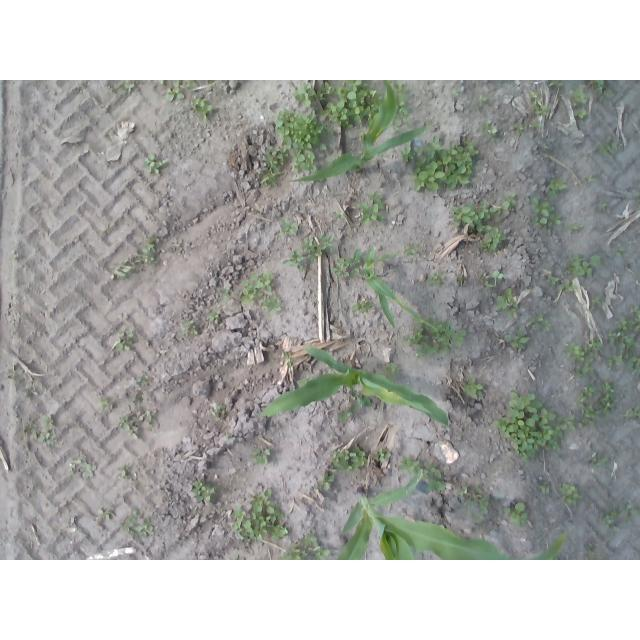Maize: (337, 472, 568, 560), (259, 348, 449, 427), (286, 80, 430, 180), (363, 248, 438, 333)
Weeds: (493, 391, 560, 461), (413, 144, 479, 192), (232, 490, 289, 542), (323, 82, 381, 129), (275, 107, 333, 150), (476, 220, 506, 252), (565, 255, 601, 278), (419, 317, 450, 339), (290, 149, 317, 174), (534, 206, 563, 226), (241, 282, 264, 306), (193, 479, 216, 503), (503, 502, 526, 526), (493, 288, 516, 311), (292, 84, 314, 108), (451, 205, 477, 225), (251, 270, 274, 292), (559, 482, 582, 504), (144, 154, 168, 175), (504, 330, 529, 349), (259, 167, 285, 185), (573, 357, 596, 377), (332, 449, 352, 472), (352, 443, 369, 470), (580, 402, 599, 426), (278, 545, 308, 560), (565, 342, 586, 363), (464, 378, 484, 399), (532, 196, 552, 216), (282, 250, 305, 267), (397, 456, 419, 473), (278, 219, 298, 237), (425, 134, 440, 158), (415, 341, 439, 356), (135, 516, 153, 536), (251, 447, 271, 465), (362, 204, 379, 225), (532, 314, 552, 331), (446, 330, 466, 347), (262, 295, 283, 311), (349, 302, 375, 314), (408, 325, 425, 343), (383, 363, 402, 379), (600, 395, 616, 414), (573, 86, 588, 106), (298, 534, 318, 549), (424, 465, 444, 480), (558, 279, 579, 293), (197, 104, 214, 121), (393, 83, 410, 100), (334, 260, 351, 277), (429, 271, 447, 287), (620, 335, 632, 358), (373, 449, 391, 464), (79, 460, 94, 478), (601, 509, 616, 527), (478, 197, 490, 219), (501, 194, 517, 210), (584, 338, 600, 354), (264, 150, 279, 167), (99, 396, 114, 413), (403, 245, 426, 256), (141, 236, 155, 254), (427, 479, 445, 493), (561, 413, 575, 431), (112, 264, 132, 276), (620, 504, 640, 516), (168, 87, 185, 101), (318, 235, 335, 249), (278, 146, 290, 165), (174, 81, 199, 90), (609, 331, 624, 346), (118, 414, 132, 430), (369, 192, 382, 209), (98, 508, 116, 520), (401, 148, 415, 163), (348, 249, 362, 264), (550, 182, 566, 195), (116, 340, 133, 352), (313, 549, 331, 560), (590, 297, 604, 311), (216, 402, 227, 419), (478, 497, 489, 514), (565, 224, 583, 234), (208, 309, 220, 324), (630, 306, 640, 323), (322, 84, 336, 96), (129, 427, 140, 442), (137, 411, 153, 421), (536, 103, 549, 115), (613, 244, 625, 257), (600, 382, 613, 394), (302, 236, 314, 249), (310, 248, 322, 261), (358, 397, 372, 408), (529, 90, 541, 102), (138, 375, 150, 387), (628, 322, 640, 334), (192, 97, 205, 108), (574, 108, 587, 119), (43, 416, 54, 429), (397, 102, 408, 114), (616, 318, 628, 329), (122, 517, 134, 528), (607, 142, 618, 153), (323, 473, 334, 484), (134, 394, 145, 405), (121, 464, 131, 476), (23, 388, 38, 396), (38, 432, 51, 441), (549, 80, 563, 88), (547, 276, 561, 284), (633, 358, 640, 374), (125, 83, 136, 93), (629, 407, 640, 417), (489, 205, 501, 214), (600, 144, 609, 156), (24, 424, 36, 433), (333, 212, 346, 220), (487, 127, 497, 137), (220, 289, 229, 300), (597, 458, 608, 467), (628, 357, 637, 368), (584, 385, 596, 393), (583, 542, 595, 550), (532, 121, 542, 130), (597, 203, 607, 212), (125, 529, 135, 538), (541, 484, 550, 494), (339, 412, 350, 420), (316, 90, 324, 101), (510, 308, 518, 319), (442, 343, 450, 354), (614, 355, 622, 366), (463, 499, 475, 506), (474, 484, 483, 493), (145, 254, 155, 262), (596, 80, 604, 90), (575, 392, 585, 400), (47, 438, 57, 446), (587, 550, 595, 560), (348, 406, 356, 415), (479, 96, 487, 105), (632, 189, 640, 198), (316, 482, 324, 491), (128, 326, 134, 338), (190, 326, 198, 335), (603, 91, 613, 98), (474, 515, 484, 522), (458, 273, 465, 283), (483, 283, 494, 289), (350, 389, 358, 397), (481, 120, 489, 128), (494, 270, 502, 278), (129, 472, 137, 480), (586, 176, 595, 183), (133, 508, 140, 517), (482, 273, 491, 280), (517, 123, 523, 133), (394, 124, 401, 132), (182, 321, 190, 328), (69, 463, 75, 472), (287, 361, 294, 368), (612, 525, 620, 531), (597, 554, 605, 560), (460, 489, 468, 495), (13, 252, 19, 259), (607, 360, 614, 366), (74, 457, 81, 463), (179, 329, 186, 335), (379, 216, 385, 223), (285, 352, 291, 358), (118, 332, 124, 338), (159, 80, 166, 85), (325, 483, 330, 490), (233, 555, 240, 560), (297, 265, 303, 270), (453, 92, 459, 96), (226, 433, 231, 437), (209, 81, 214, 84)
